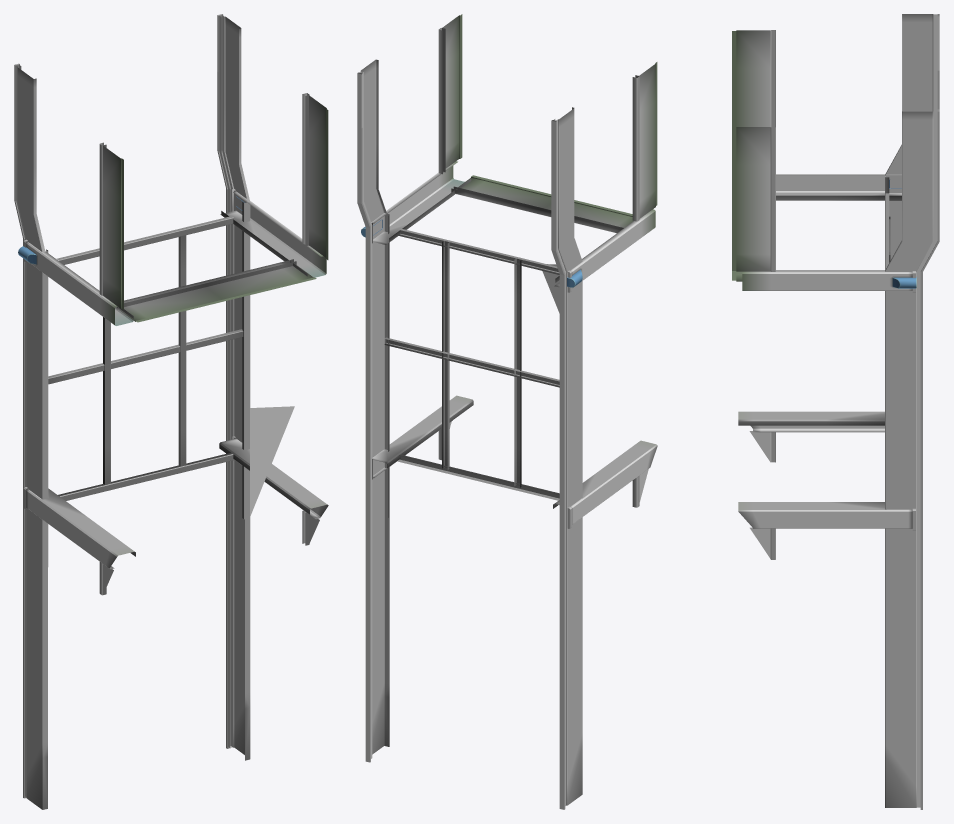
Rendered from SM_000426_merge_w40h001_at01_001.fbx.
3 views of the same model, side by side, from view 1: azimuth 30°, elevation 25°; view 2: azimuth 150°, elevation 25°; view 3: azimuth 270°, elevation 25° (orthographic). The views are drawn at different scales.
Visible parts, largest first — view 1: SM_000426.001; view 2: SM_000426.001; view 3: SM_000426.001.
Boxes of the visible parts, left/top/right/bottom form: SM_000426.001: left=14, top=14, right=328, bottom=809; SM_000426.001: left=357, top=14, right=657, bottom=809; SM_000426.001: left=732, top=14, right=939, bottom=809.
Bounding box in the file's own units: 11.9 × 36.74 × 12.07.
